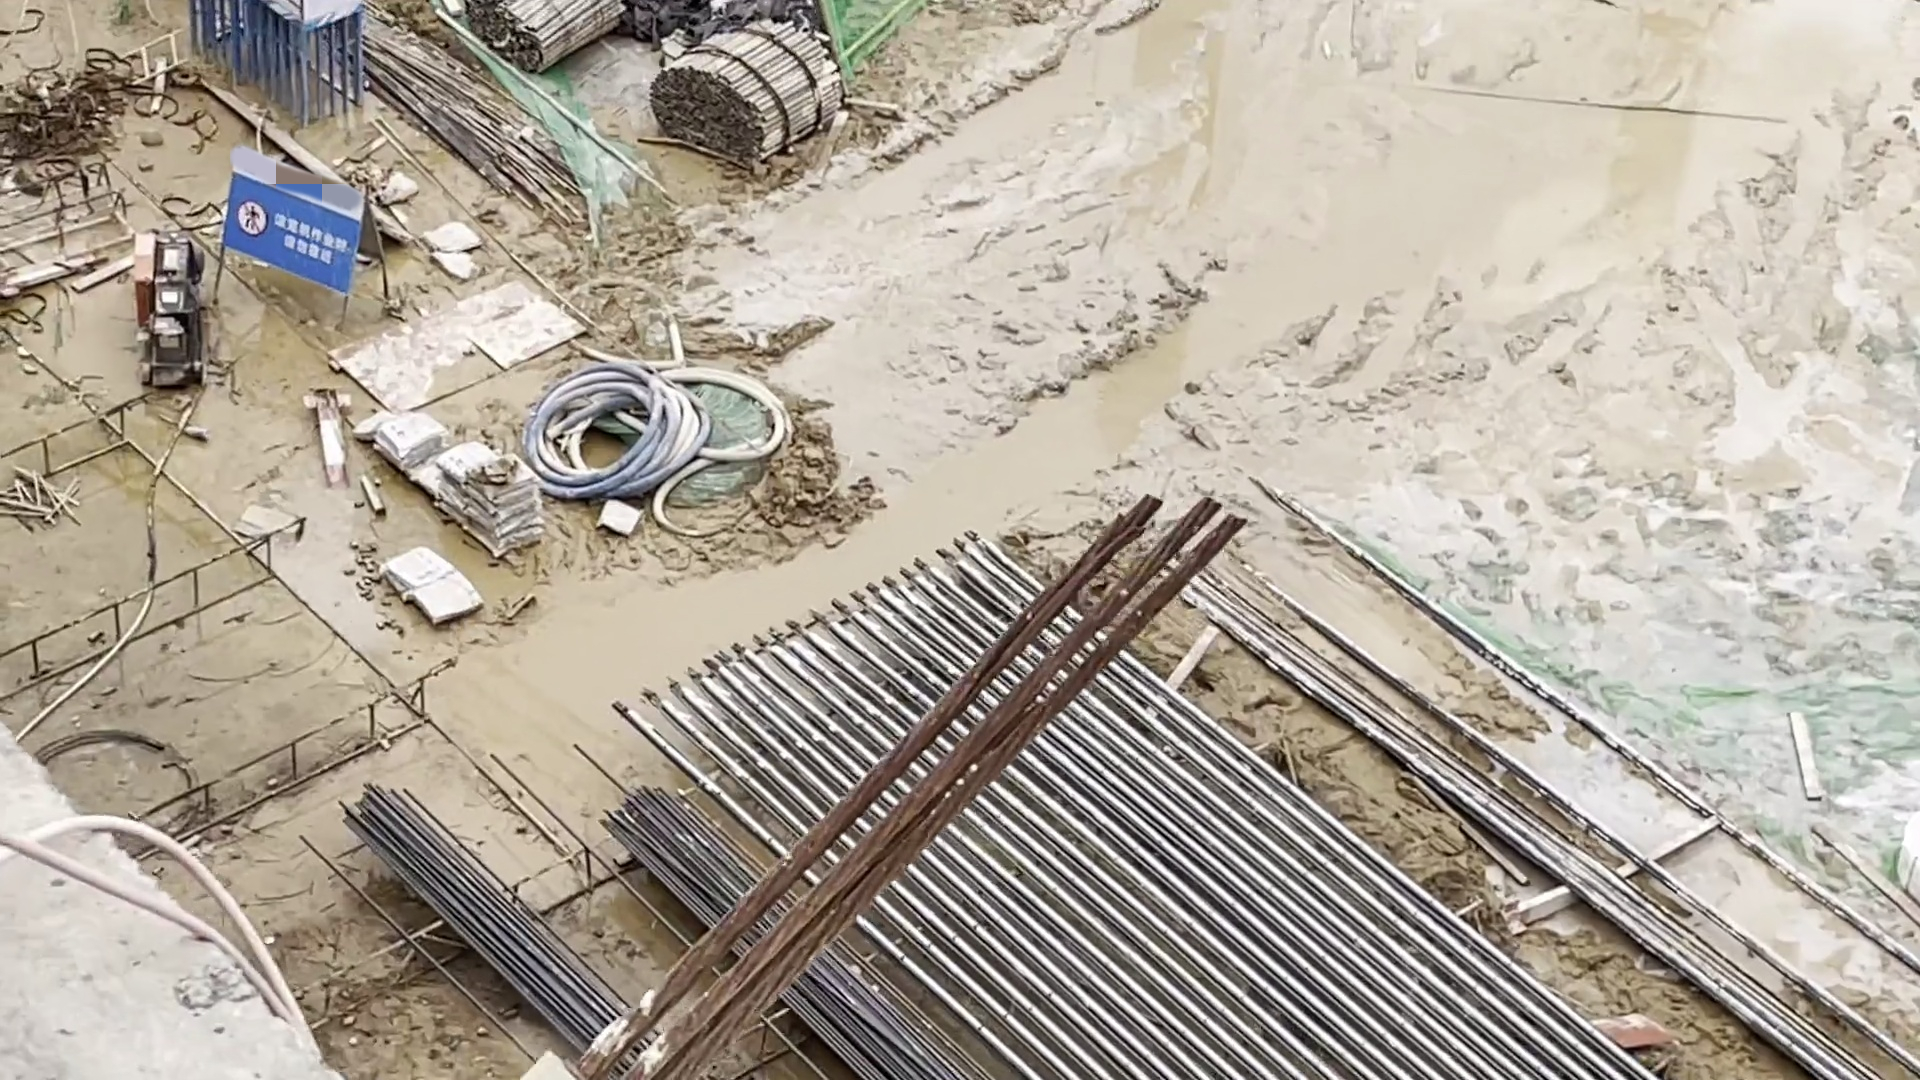rebar: (596, 760, 949, 1080), (307, 769, 670, 1080)
slogan: (219, 186, 360, 287)
wood: (647, 15, 837, 165), (460, 1, 632, 78)
